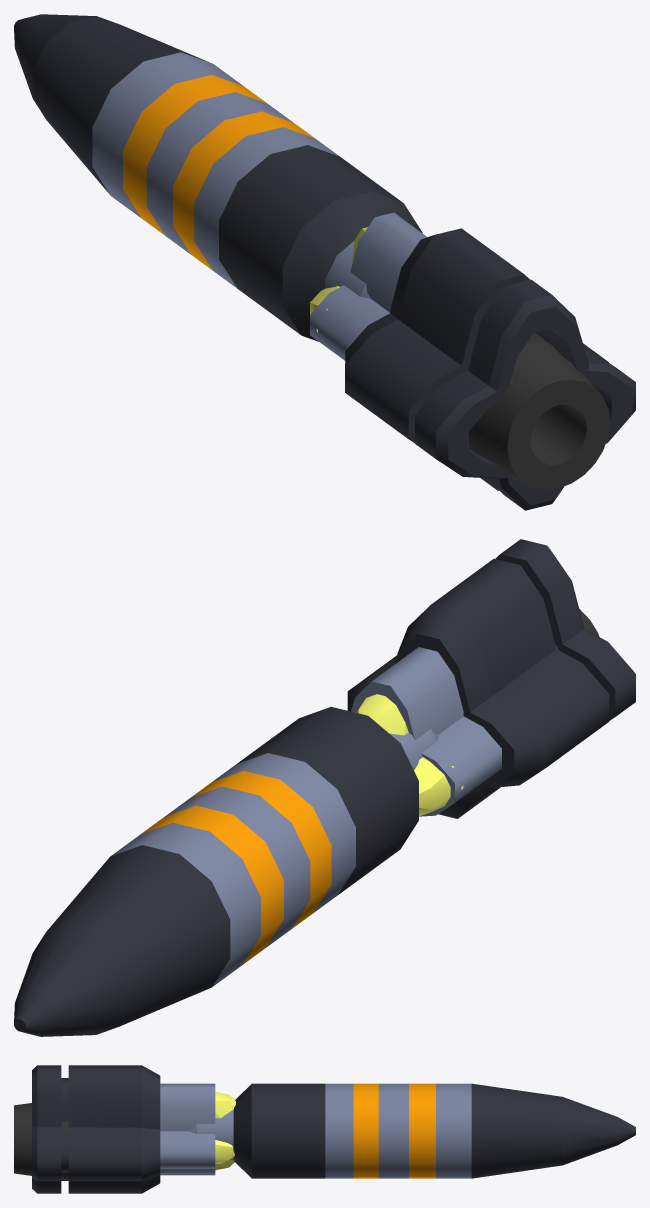
Rendered from Pico_SingleMissile.glb.
3 views of the same model, one above another, from view 1: azimuth 30°, elevation 25°; view 2: azimuth 150°, elevation 25°; view 3: azimuth 270°, elevation 25° (orthographic). The views are drawn at different scales.
Visible parts, largest first — view 1: mergedBlocks(Clone); view 2: mergedBlocks(Clone); view 3: mergedBlocks(Clone).
Part boxes in pixels (x1=…): mergedBlocks(Clone): x1=14, y1=14, x2=635, y2=510; mergedBlocks(Clone): x1=14, y1=539, x2=635, y2=1036; mergedBlocks(Clone): x1=14, y1=1065, x2=635, y2=1193.
Bounding box in the file's own units: 0.7302 × 0.7302 × 3.4.
Materials: 1 (1 with a texture image).
